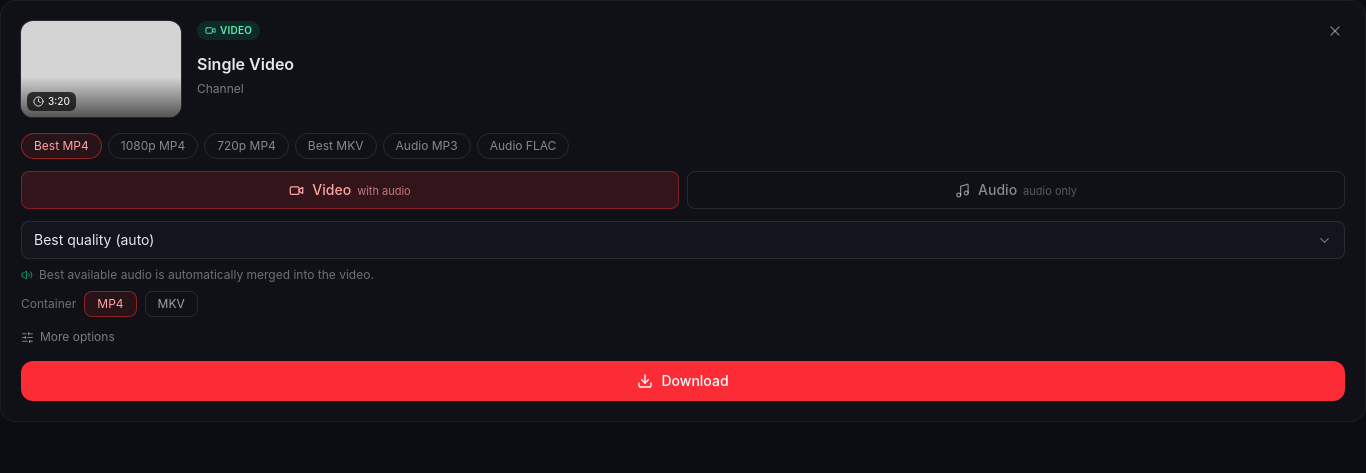
MediaCard › toggles the more-options panel
Click the button "More options".
click(68, 337)  # box [21,329,115,345]
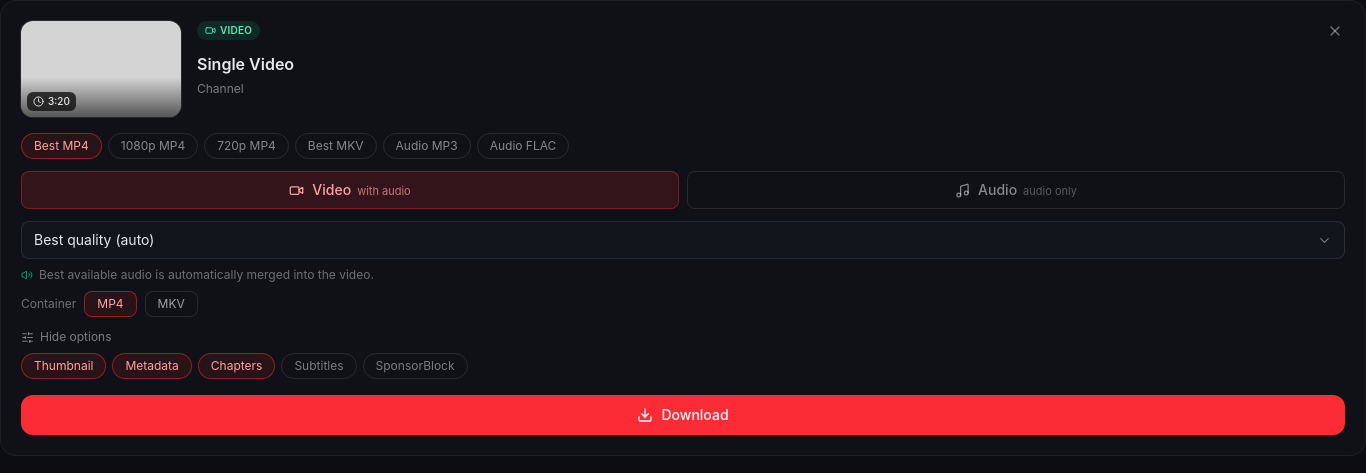
Check: the button "Thumbnail" is shown, box [21,353,106,379]
Check: the button "SponsorBlock" is shown, box [363,353,468,379]
